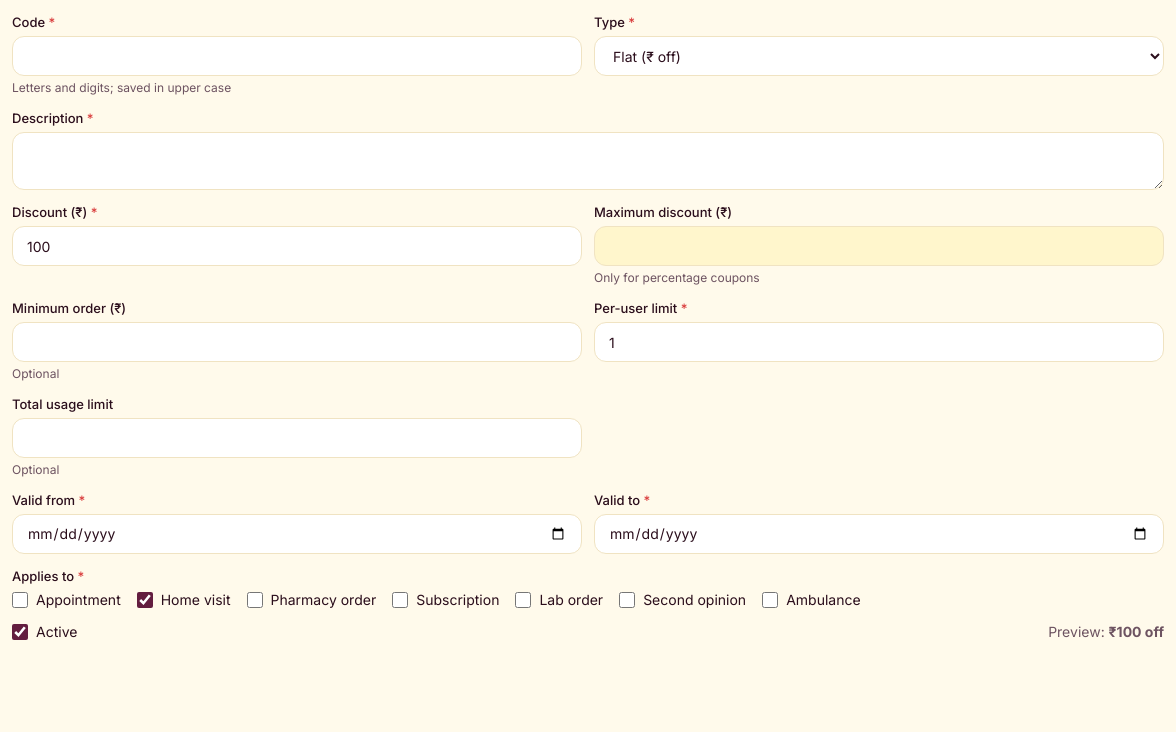
it: CouponForm › requires a cap when switched to percentage
Select "Percentage" in the dropdown labelled "Type *" at (879, 56), box [594,36,1164,76]
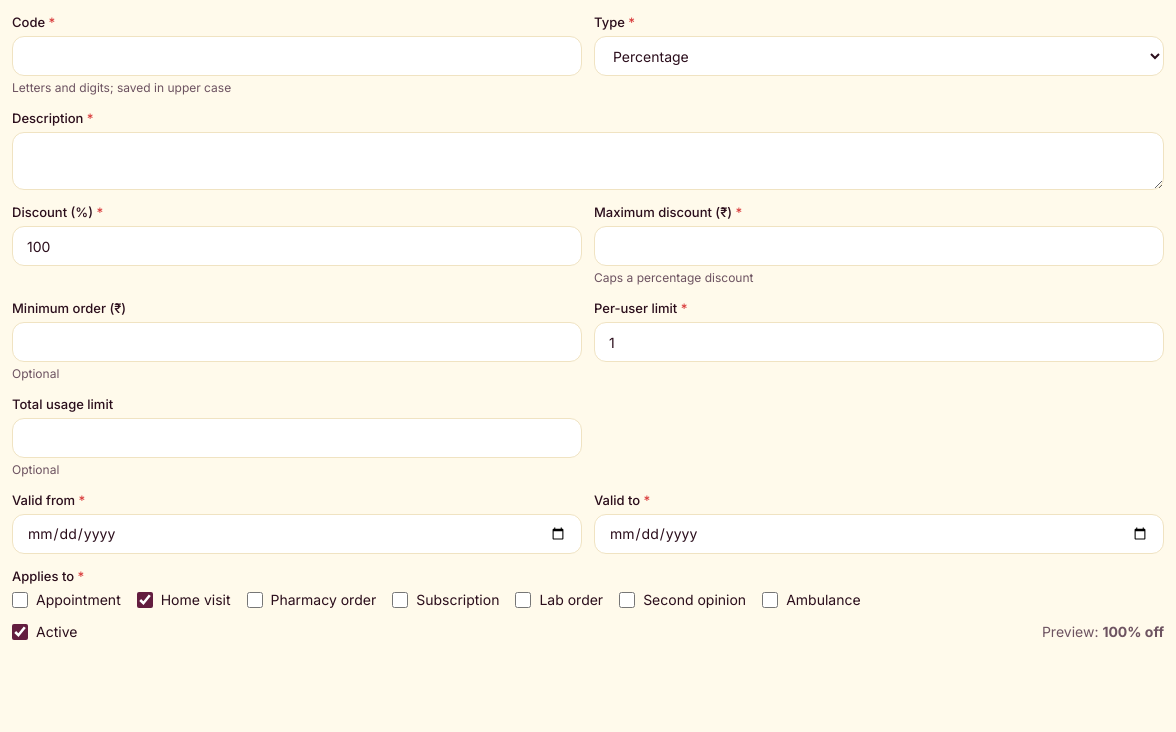
Type "CARE10" into the field labelled "Code *" at (297, 56), box [12,36,582,76]
Type "10% off" into the text box labelled "Description *" at (588, 161), box [12,132,1164,190]
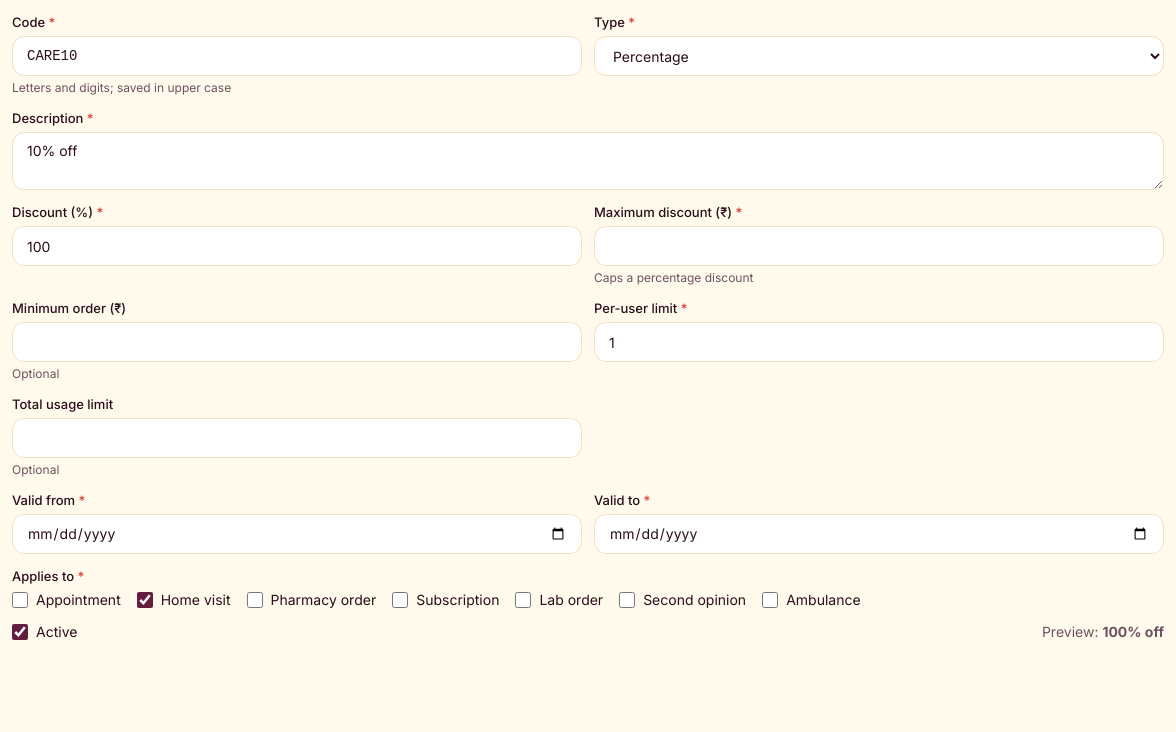
Replace the text in the number field labelled "Discount (%) *" with "10" at (297, 246), box [12,226,582,266]
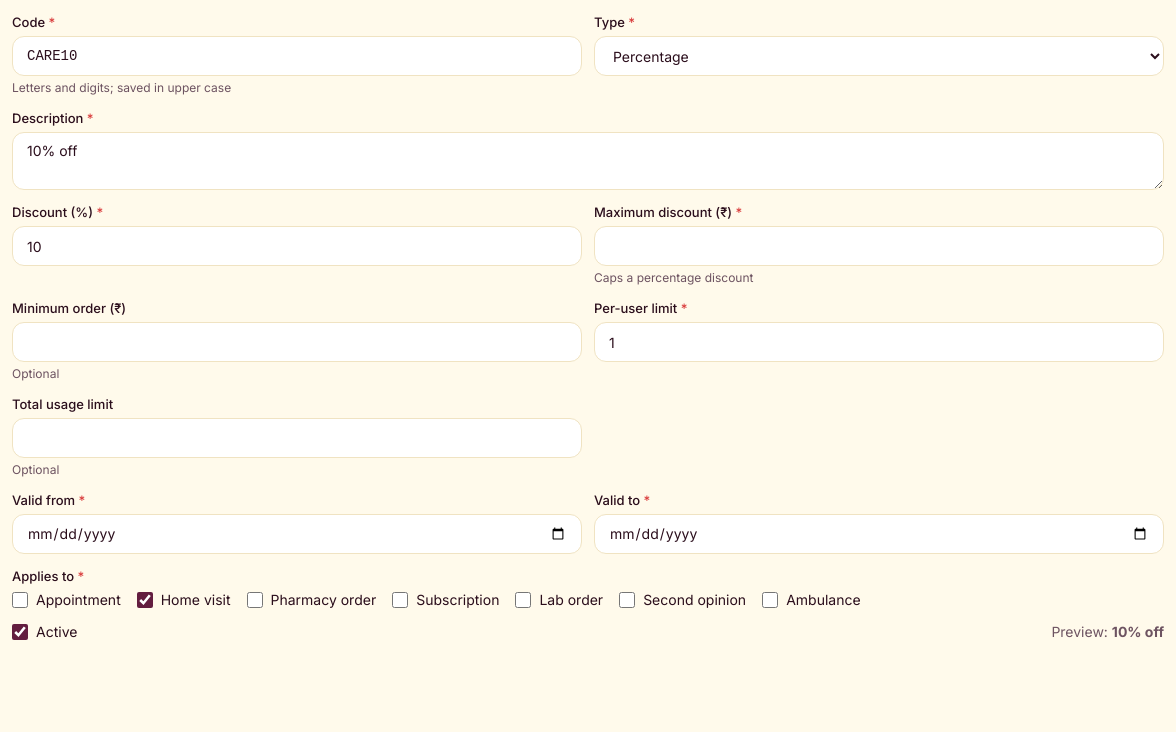
Type "2026-10-01" into the date field labelled "Valid from *" at (297, 534), box [12,514,582,554]
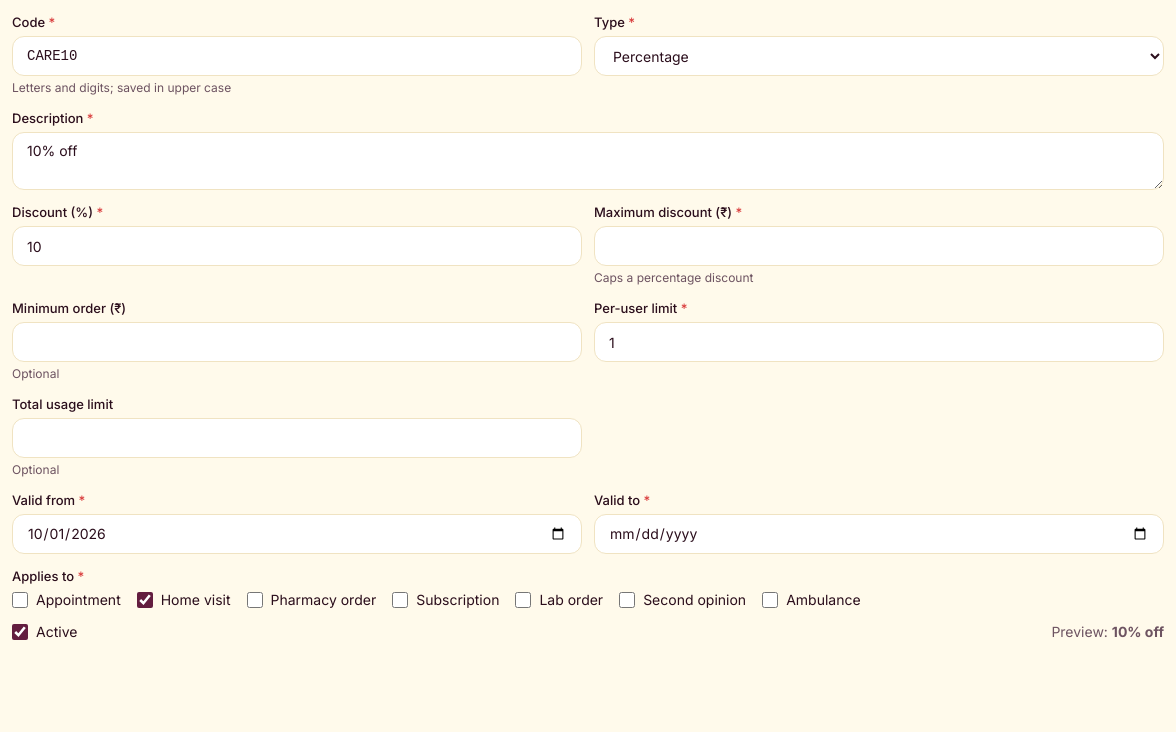
Type "2026-12-31" into the date field labelled "Valid to *" at (879, 534), box [594,514,1164,554]
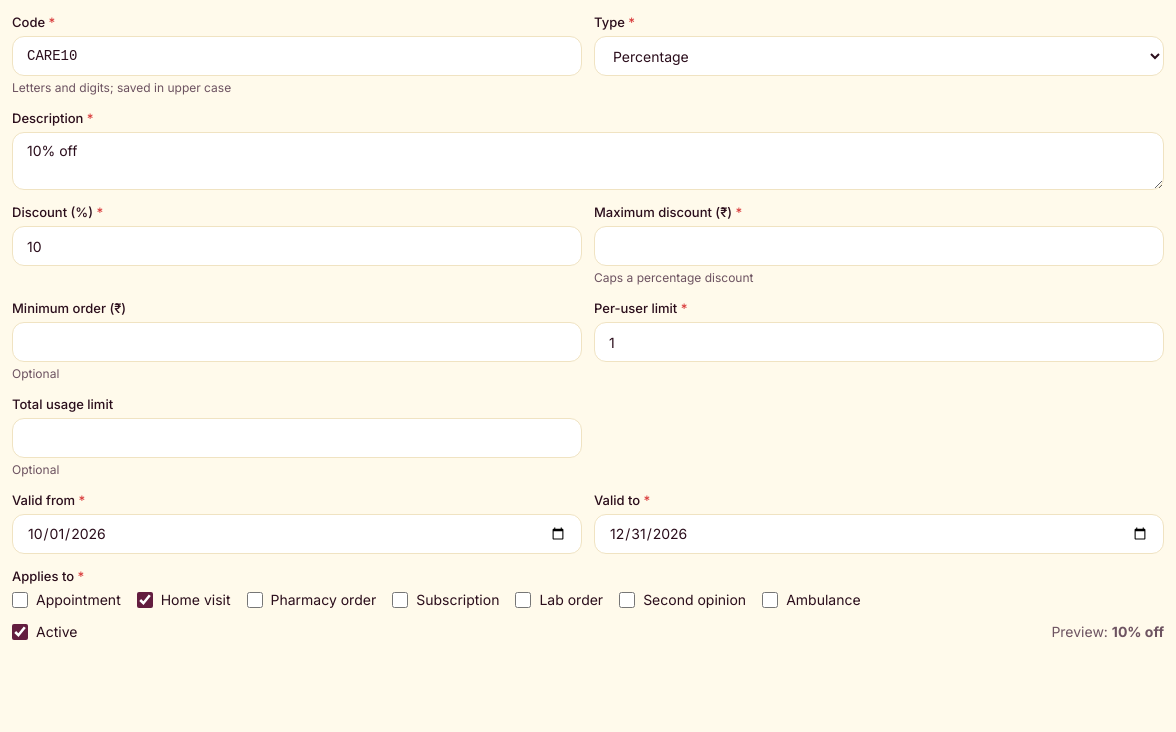
Submit the form named "Coupon"
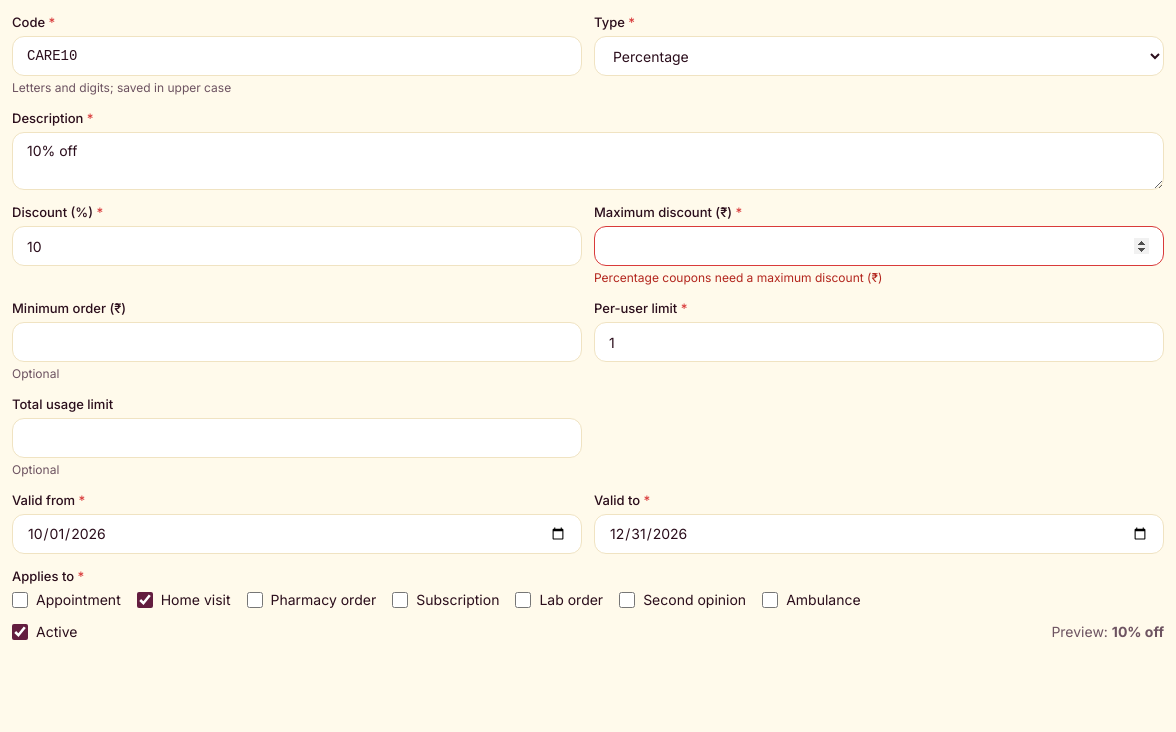
Expected: the text "Percentage coupons need a maximum discount (₹)" is shown, [594,270,882,285]
